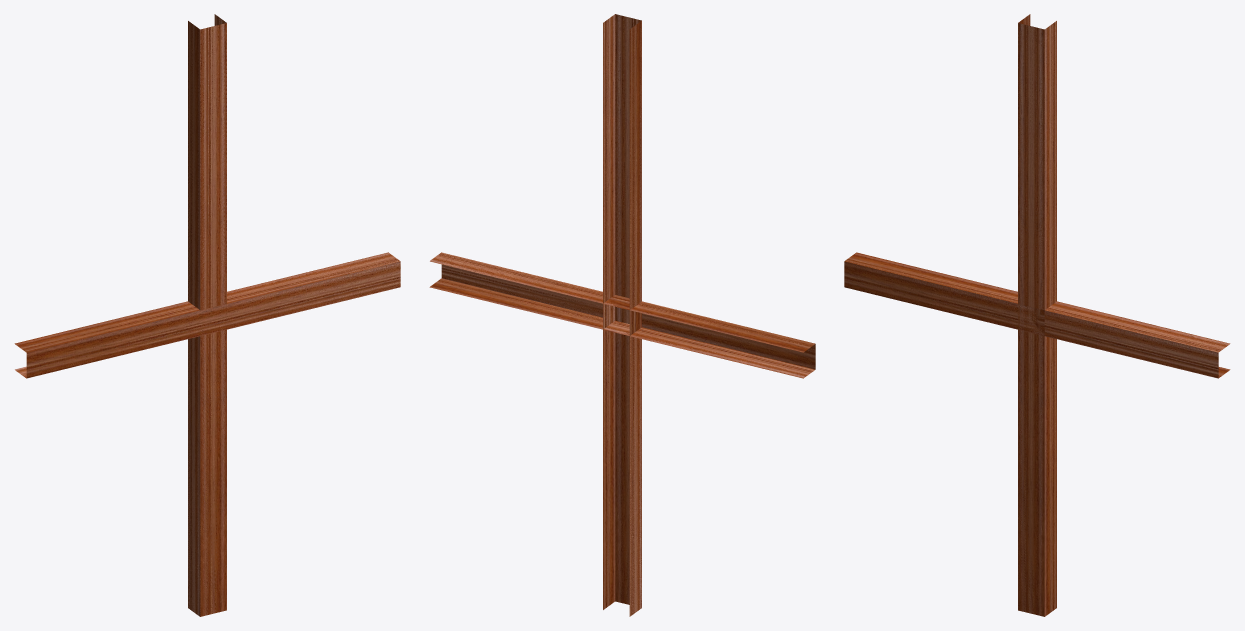
Rendered from huakuang002.obj.
3 views of the same model, side by side, from view 1: azimuth 30°, elevation 25°; view 2: azimuth 150°, elevation 25°; view 3: azimuth 330°, elevation 25° (orthographic).
Visible parts, largest first — view 1: Right, Left, Top, Bottom; view 2: Right, Left, Bottom, Top; view 3: Right, Top, Left, Bottom.
Boxes of the visible parts, x1,y1,x2,y2 form: Right: [188, 14, 226, 616]; Left: [188, 16, 226, 616]; Top: [15, 252, 400, 378]; Bottom: [15, 253, 400, 378]; Right: [603, 14, 641, 615]; Left: [603, 14, 641, 616]; Bottom: [430, 252, 815, 378]; Top: [429, 252, 815, 376]; Right: [1018, 14, 1056, 616]; Top: [844, 252, 1230, 378]; Left: [1018, 15, 1056, 615]; Bottom: [844, 253, 1228, 377].
Size of the model in its own units: 1 by 1.5 by 0.0566.
Materials: 1 (1 with a texture image).
